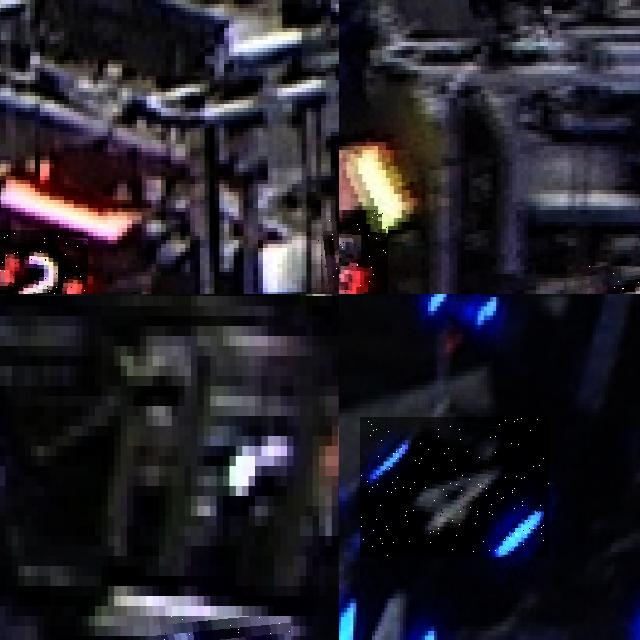B4: (360, 417, 549, 557), (339, 589, 446, 640)
R2: (0, 230, 88, 294), (339, 210, 388, 294)
